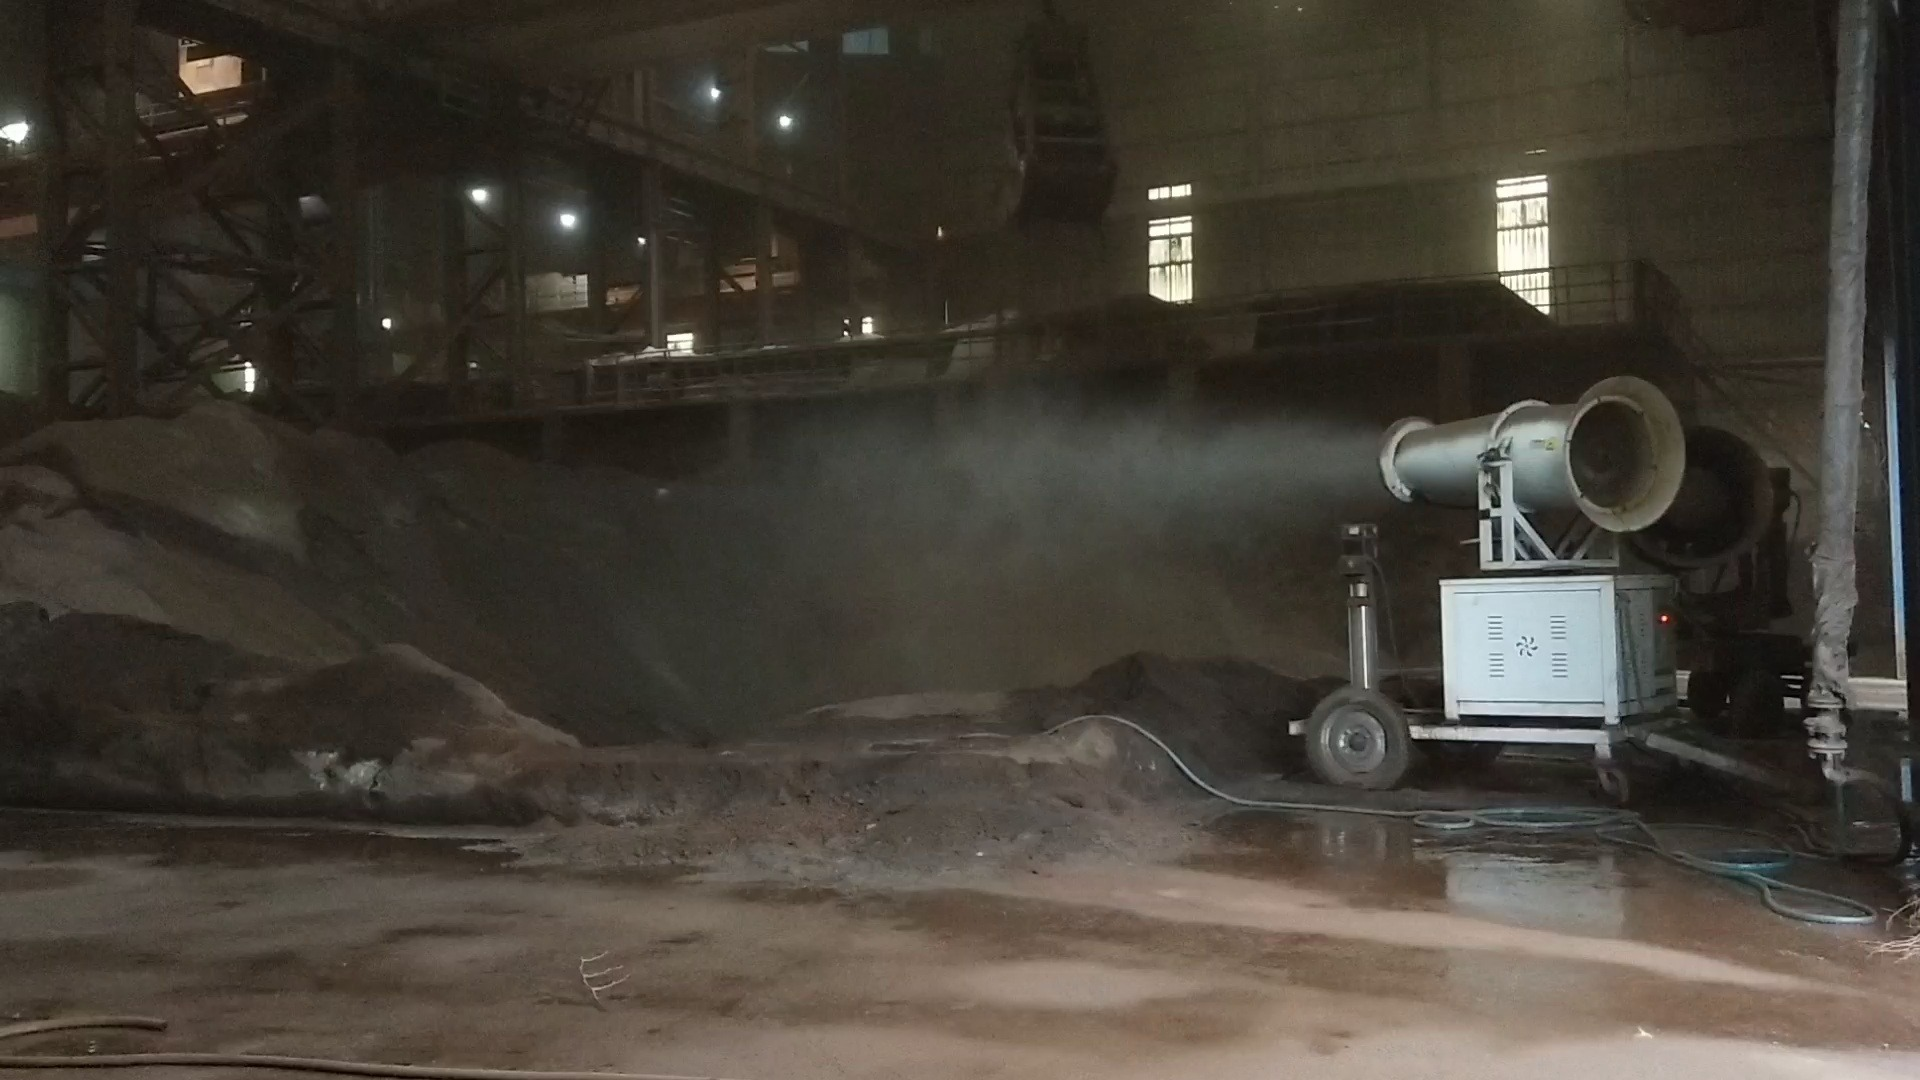dust: (746, 386, 1378, 636)
grab: (973, 8, 1120, 241)
